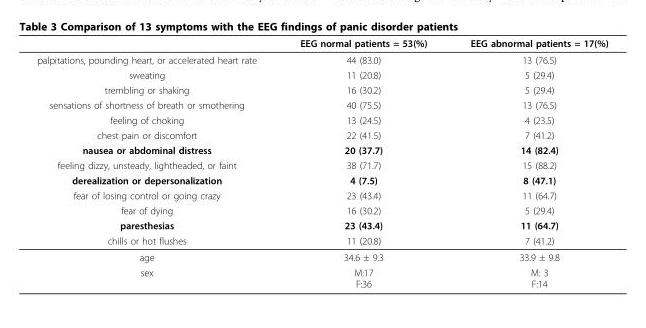table: (36, 37, 607, 288)
table column: (36, 37, 277, 288), (277, 37, 448, 288), (448, 37, 607, 288)
table column header: (36, 37, 607, 51)
table row: (36, 264, 607, 288), (36, 51, 607, 67), (36, 232, 607, 248), (36, 248, 607, 264), (36, 67, 607, 82), (36, 82, 607, 97), (36, 97, 607, 112), (36, 112, 607, 127), (36, 127, 607, 142), (36, 142, 607, 157), (36, 157, 607, 172), (36, 172, 607, 187), (36, 187, 607, 202), (36, 202, 607, 217), (36, 217, 607, 232), (36, 37, 607, 51)
